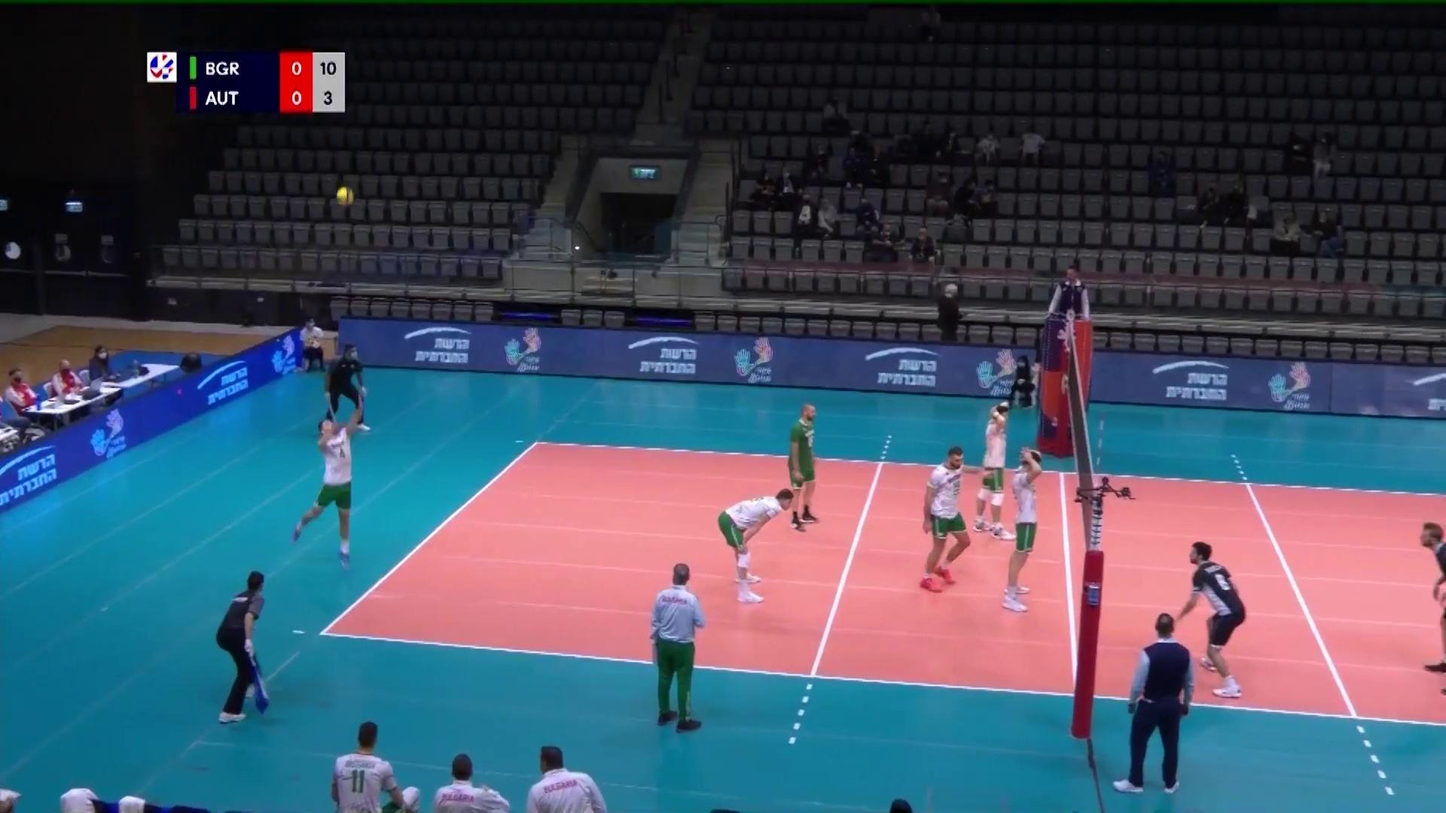ball: (334, 186, 356, 208)
